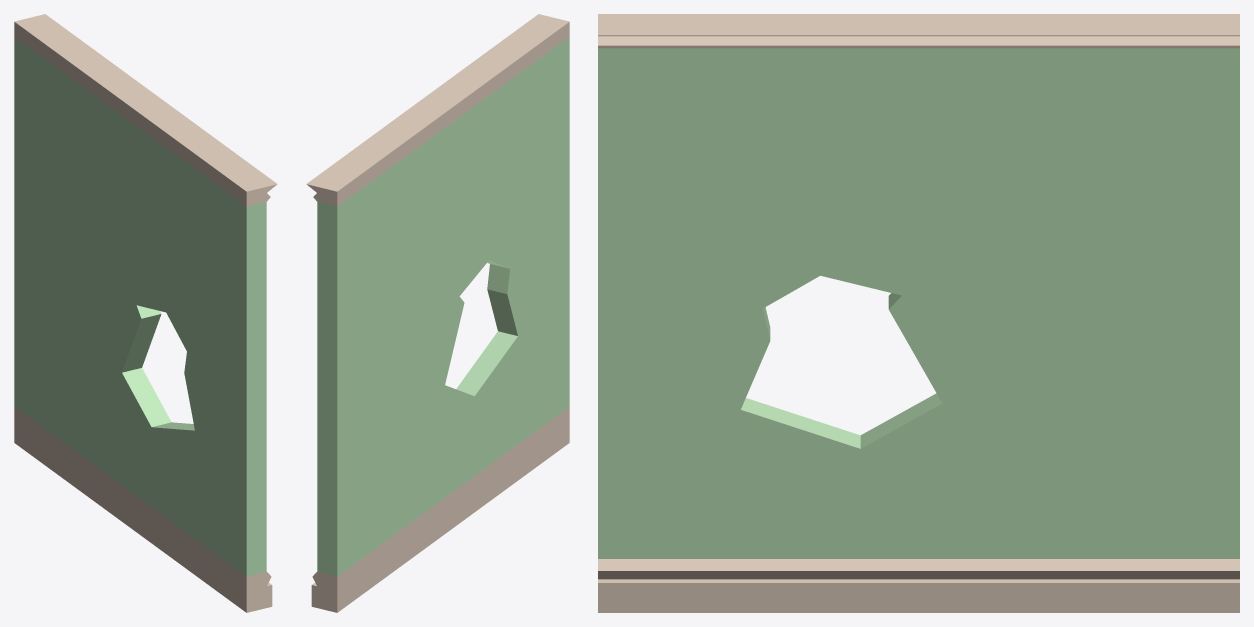
The model's file is Wall_SmallHole1.fbx.
3 renders of one model, left to right at view 1: azimuth 30°, elevation 25°; view 2: azimuth 150°, elevation 25°; view 3: azimuth 270°, elevation 25°, orthographic. The views are drawn at different scales.
Visible parts, largest first — view 1: Cube; view 2: Cube; view 3: Cube.
Part boxes in pixels (left/top/right/bottom): Cube: left=14, top=14, right=277, bottom=612; Cube: left=306, top=14, right=569, bottom=612; Cube: left=598, top=14, right=1239, bottom=612.
Size of the model in its own units: 61.8 by 800 by 800.
